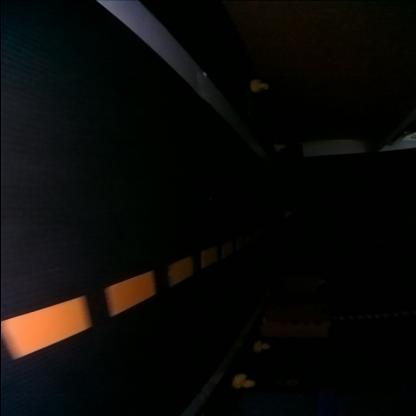Duckie: (232, 374, 254, 390), (250, 81, 268, 93), (254, 342, 270, 354), (274, 145, 284, 150), (284, 212, 292, 217)
